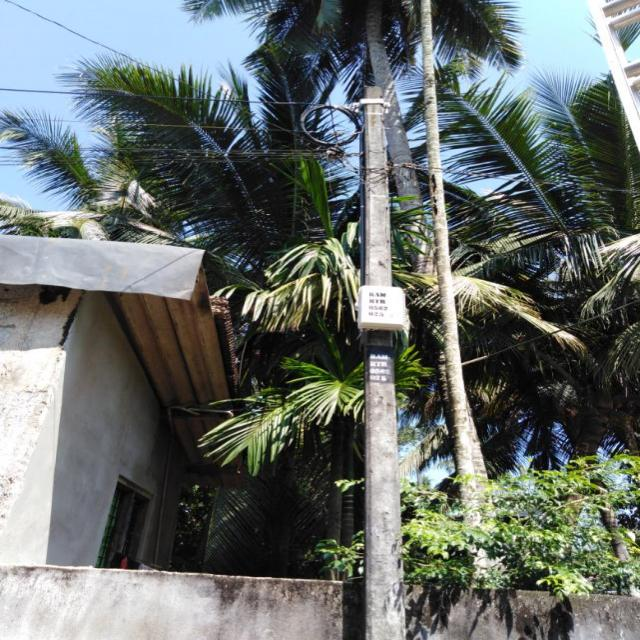light_pole: (346, 87, 420, 640)
